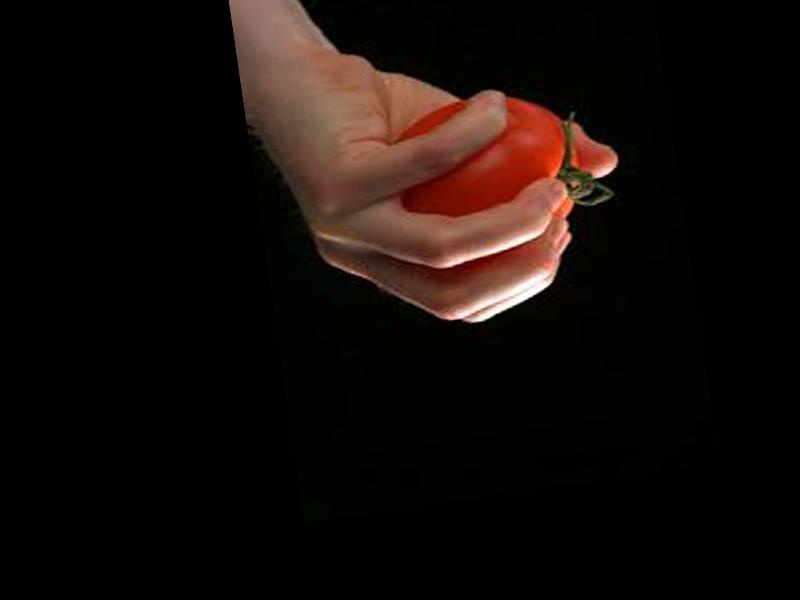Tomato: (383, 86, 578, 243)
